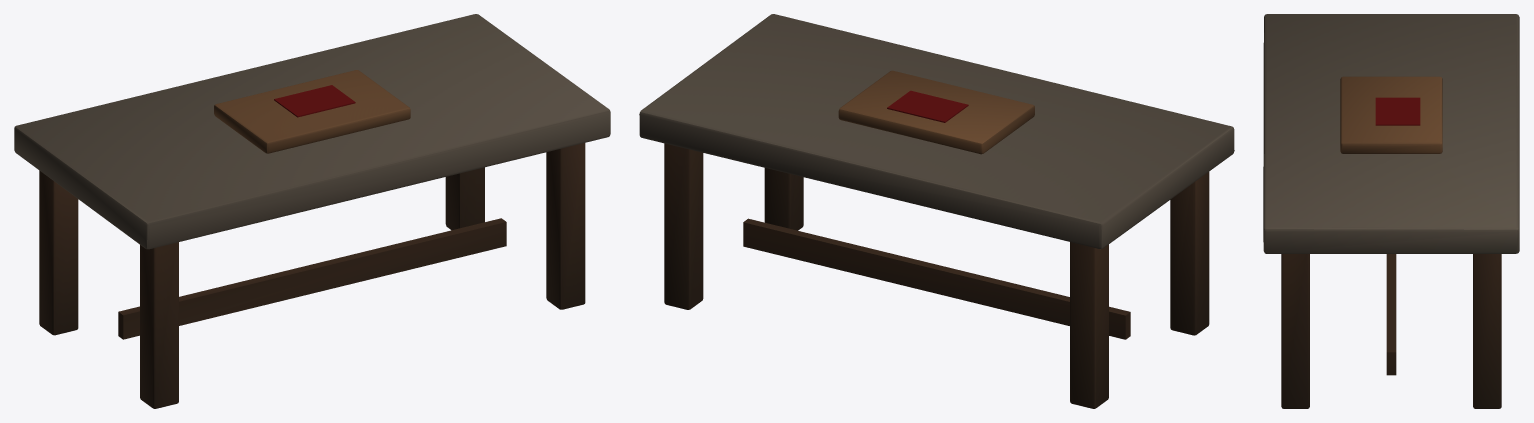
Rendered from KitchenTable.glb.
3 views of the same model, side by side, from view 1: azimuth 30°, elevation 25°; view 2: azimuth 150°, elevation 25°; view 3: azimuth 270°, elevation 25° (orthographic). The views are drawn at different scales.
Visible parts, largest first — view 1: KitchenTable_wood_old, KitchenTable_wood_dark, KitchenTable_wood, KitchenTable_blood; view 2: KitchenTable_wood_old, KitchenTable_wood_dark, KitchenTable_wood, KitchenTable_blood; view 3: KitchenTable_wood_old, KitchenTable_wood_dark, KitchenTable_wood, KitchenTable_blood.
Boxes of the visible parts, box(x1,y1,x2,y2) form: KitchenTable_wood_old: box(14, 14, 610, 249); KitchenTable_wood_dark: box(39, 143, 585, 408); KitchenTable_wood: box(214, 70, 410, 153); KitchenTable_blood: box(274, 85, 355, 117); KitchenTable_wood_old: box(639, 14, 1234, 249); KitchenTable_wood_dark: box(664, 143, 1209, 408); KitchenTable_wood: box(838, 70, 1034, 154); KitchenTable_blood: box(887, 90, 968, 122); KitchenTable_wood_old: box(1263, 14, 1519, 253); KitchenTable_wood_dark: box(1281, 254, 1501, 408); KitchenTable_wood: box(1340, 76, 1442, 153); KitchenTable_blood: box(1375, 97, 1420, 125).
Size of the model in its own units: 8.01 by 3.47 by 4.01.
